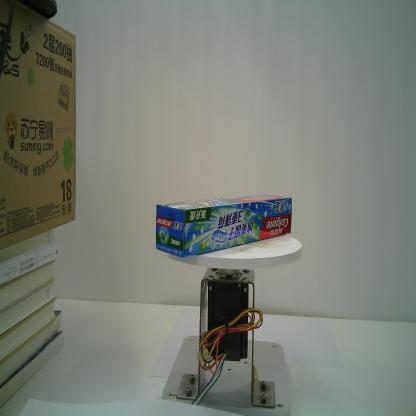Personal Hygiene: (154, 190, 293, 258)
